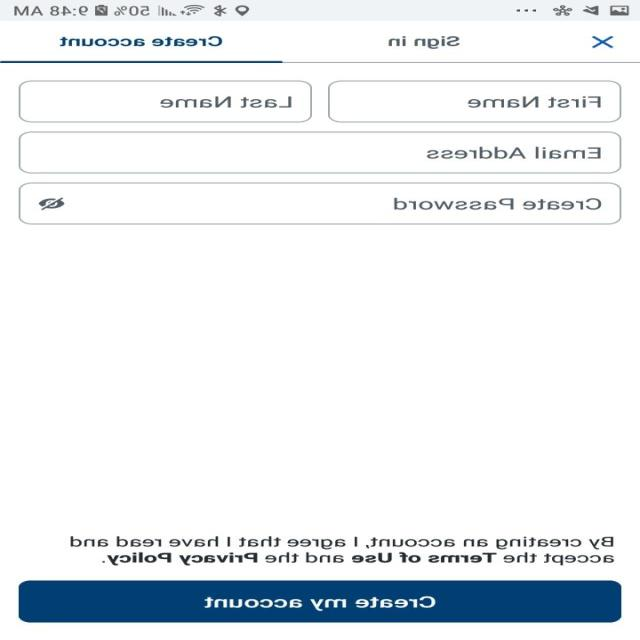EditText: (18, 182, 622, 225), (18, 131, 622, 173), (328, 80, 622, 122), (19, 80, 313, 122)
Icon: (39, 197, 66, 210), (591, 36, 614, 49)
Text: (70, 536, 615, 566), (394, 197, 602, 210), (427, 146, 601, 159), (60, 36, 224, 46), (160, 96, 294, 108), (468, 96, 602, 108), (388, 35, 461, 49)
TextButton: (18, 579, 622, 623)
